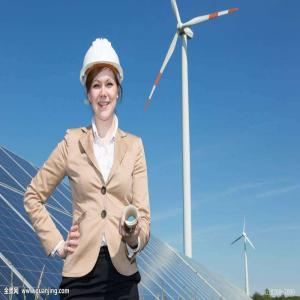white: (81, 36, 125, 124)
